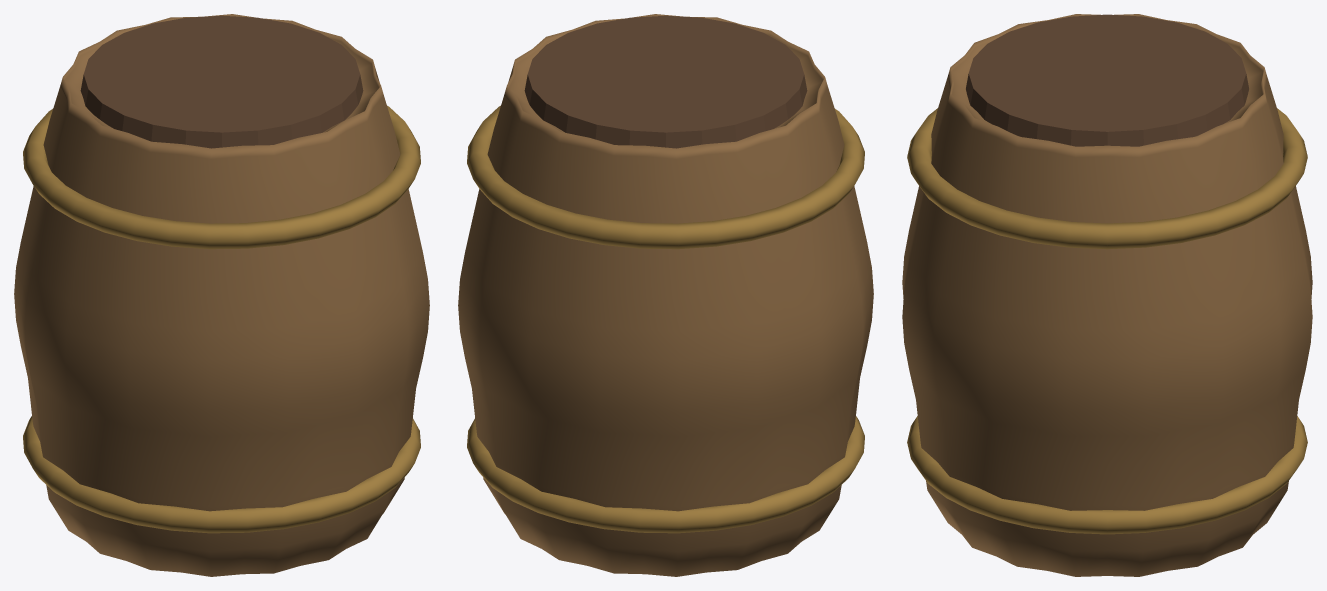
Rendered from sh_thimble_barrel.fbx.
3 renders of one model, left to right at view 1: azimuth 30°, elevation 25°; view 2: azimuth 150°, elevation 25°; view 3: azimuth 270°, elevation 25°, orthographic.
Parts seen in each view (by area): view 1: SH_Thimble_Barrel; view 2: SH_Thimble_Barrel; view 3: SH_Thimble_Barrel.
Boxes of the visible parts, <box> form: SH_Thimble_Barrel: <box>14,14,429,576</box>; SH_Thimble_Barrel: <box>458,14,873,576</box>; SH_Thimble_Barrel: <box>902,14,1312,576</box>.
Size of the model in its own units: 8.87 by 10.62 by 8.87.
